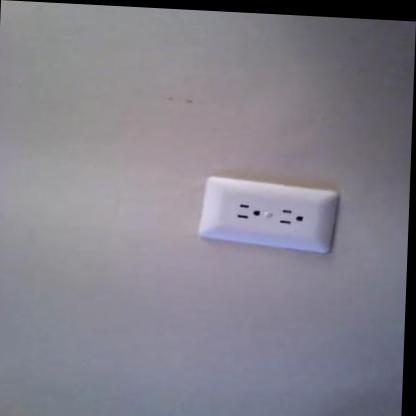OUTLET: (203, 182, 332, 250)
